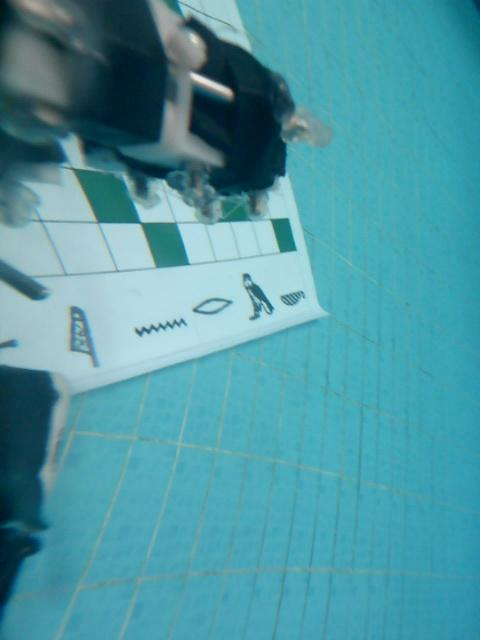Basket: (280, 291, 306, 306)
Mouth: (191, 296, 237, 317)
Owl: (239, 272, 277, 320)
Reed: (65, 304, 102, 369)
Water: (132, 316, 187, 339)
